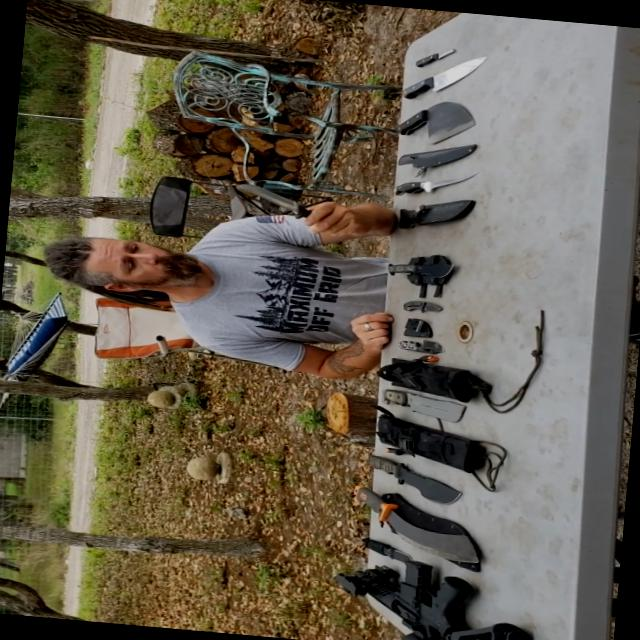knife: (315, 464, 500, 577), (355, 442, 474, 509), (370, 379, 480, 432), (398, 45, 486, 105), (392, 94, 477, 148), (388, 167, 465, 210), (377, 256, 452, 293), (356, 534, 422, 565), (408, 38, 459, 78), (391, 292, 448, 322), (389, 334, 448, 355)
long weapon: (319, 529, 547, 639)
